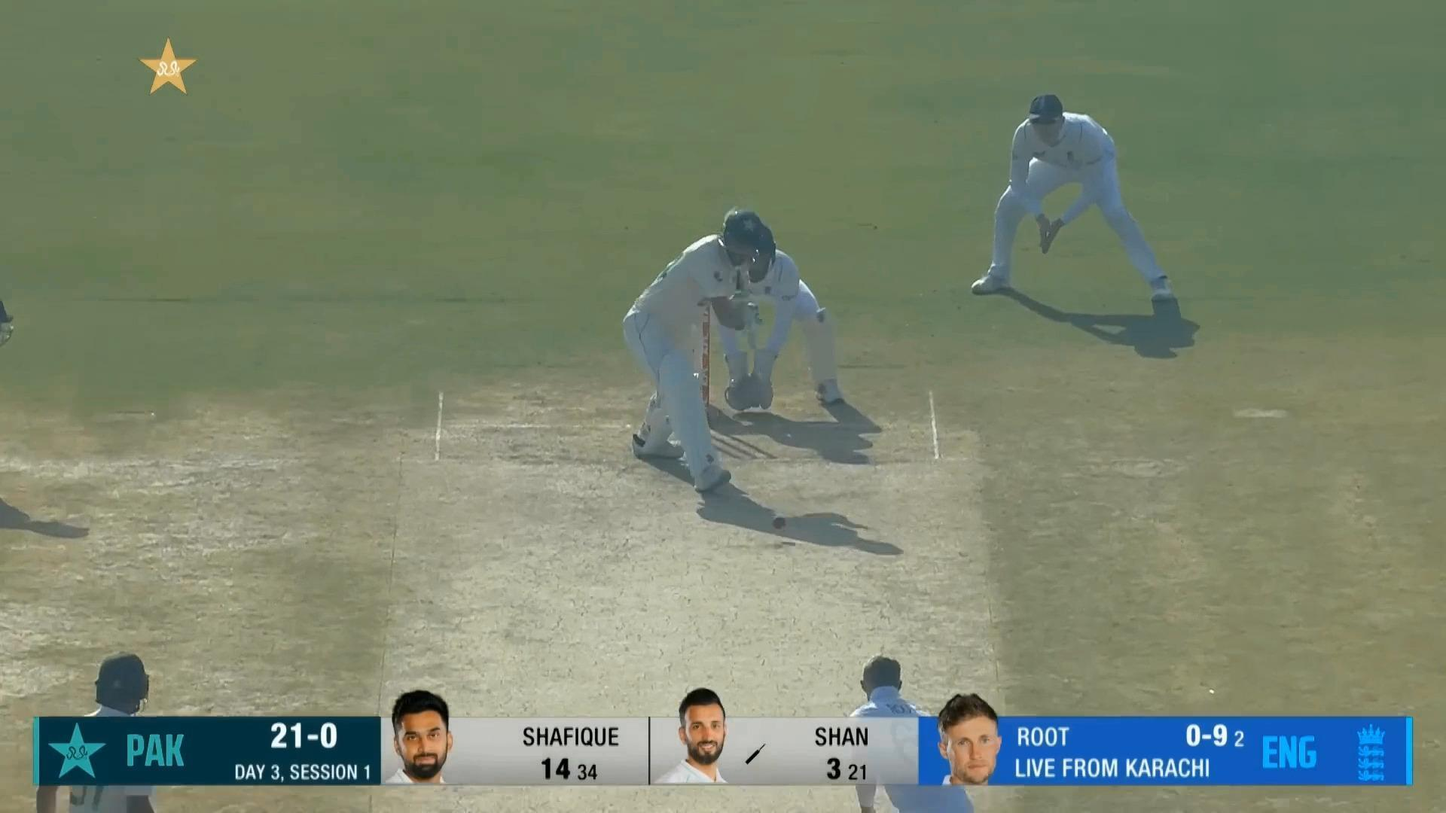BM 1: (625, 206, 763, 493)
BO: (840, 652, 978, 813)
